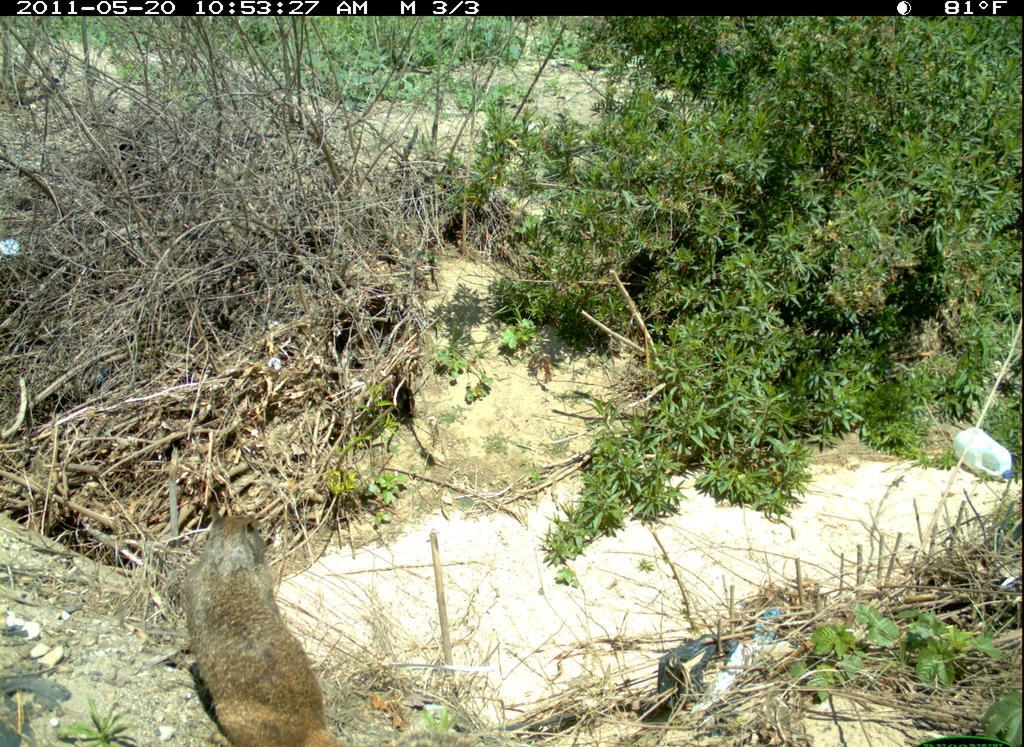squirrel: (178, 505, 382, 747)
